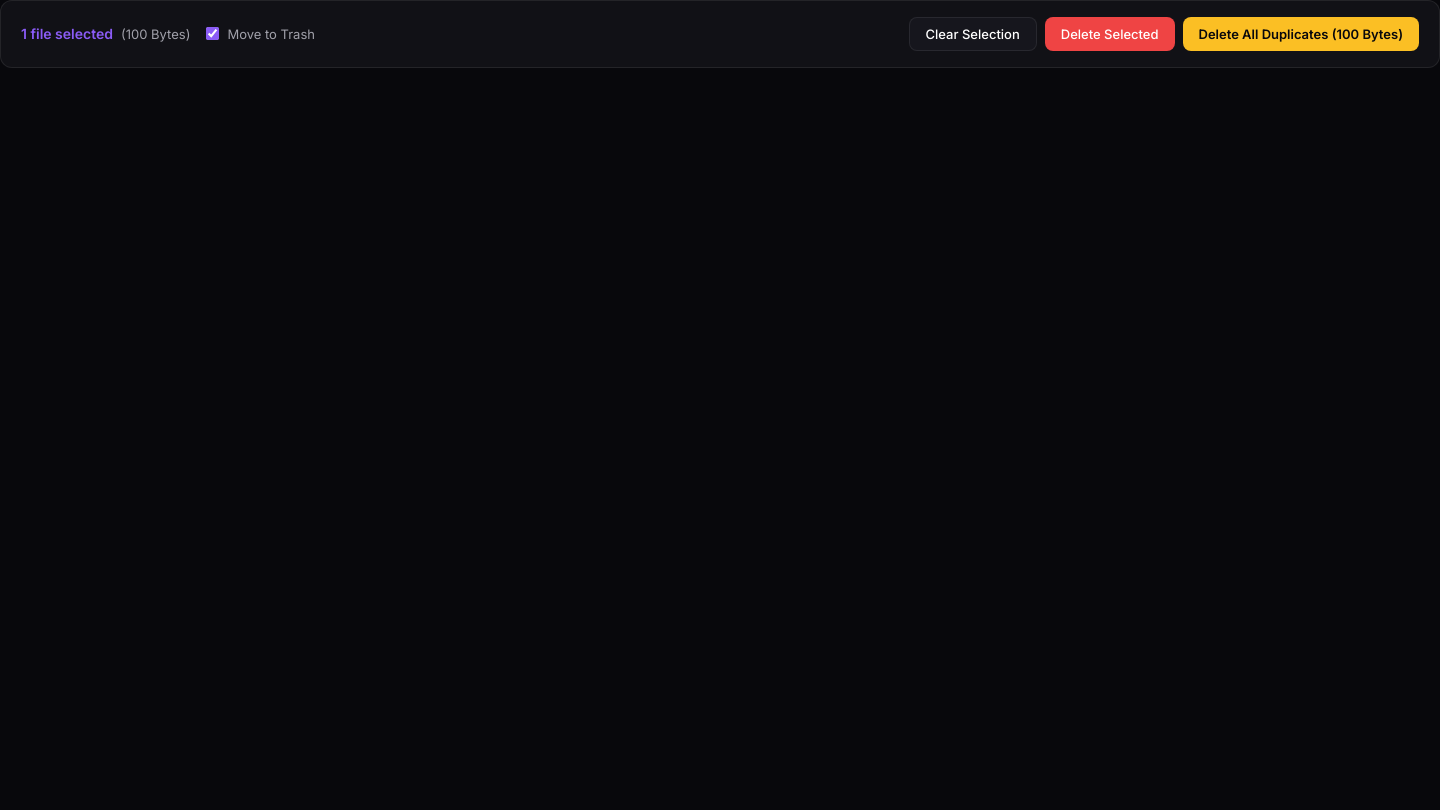
DeleteControls › should show confirm dialog when Delete Selected is clicked
The image size is (1440, 810).
Click the button "Delete Selected". click: [1110, 34]
box: [1045,17,1175,51]
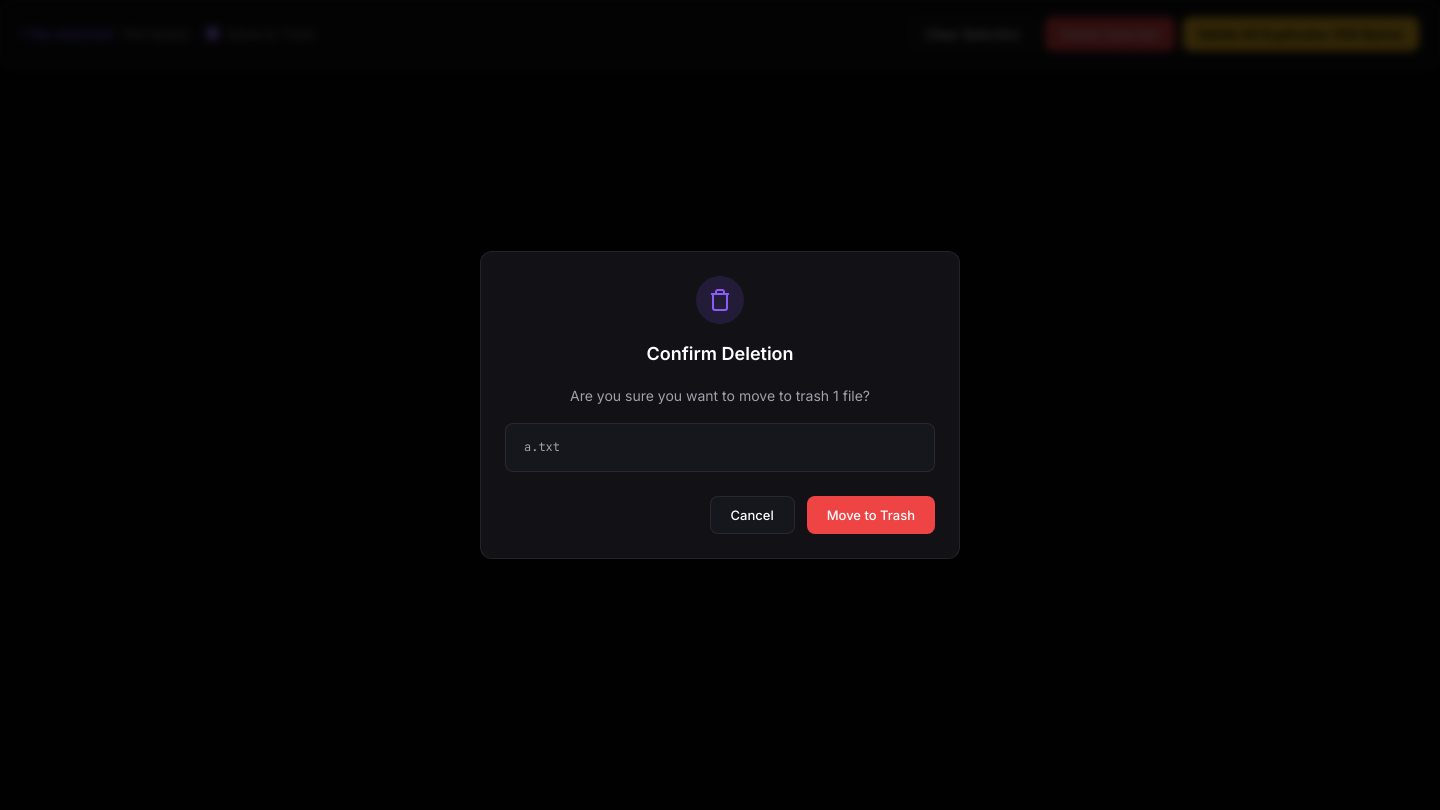
Now the heading "Confirm Deletion" is shown, box [646,343,794,364]
